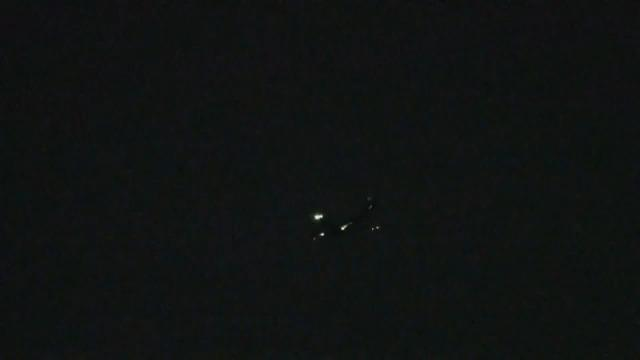Plane: (300, 191, 403, 254)
